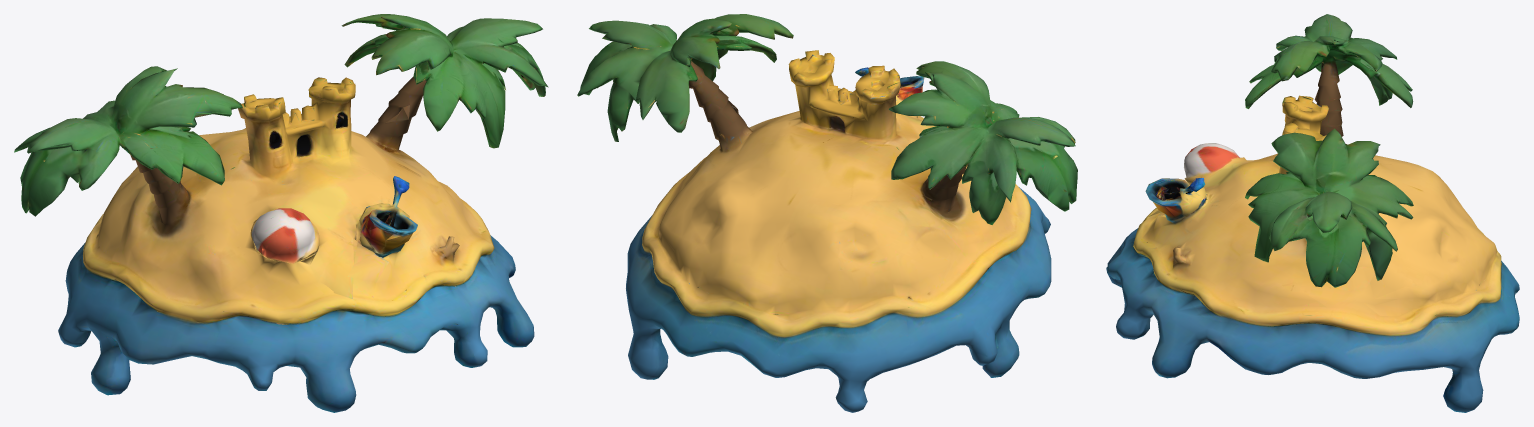
The model's file is Island.glb.
The picture shows the model from 3 angles, left to right: view 1: azimuth 30°, elevation 25°; view 2: azimuth 150°, elevation 25°; view 3: azimuth 270°, elevation 25°; orthographic projection. The views are drawn at different scales.
Visible parts, largest first — view 1: Island; view 2: Island; view 3: Island.
Part boxes in pixels (<box>): Island: <box>14,14,548,412</box>; Island: <box>577,14,1077,412</box>; Island: <box>1106,14,1519,412</box>.
Bounding box in the file's own units: 0.5928 × 0.3552 × 0.4796.
Materials: 1 (1 with a texture image).
